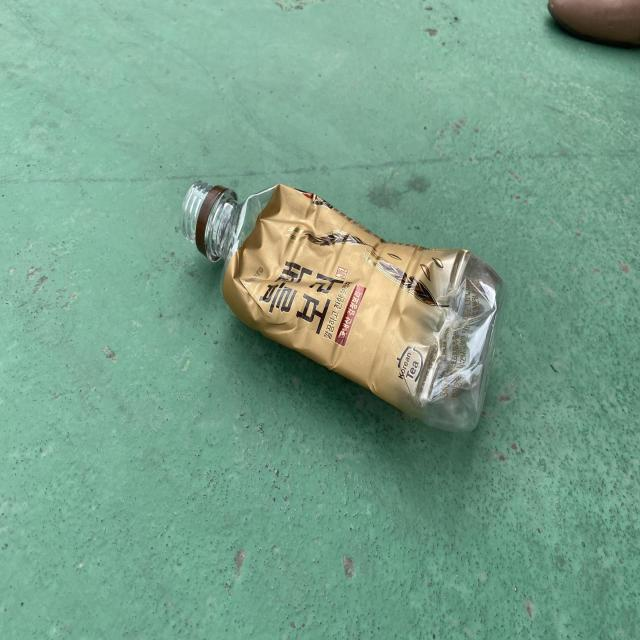plastic: (180, 181, 504, 431)
